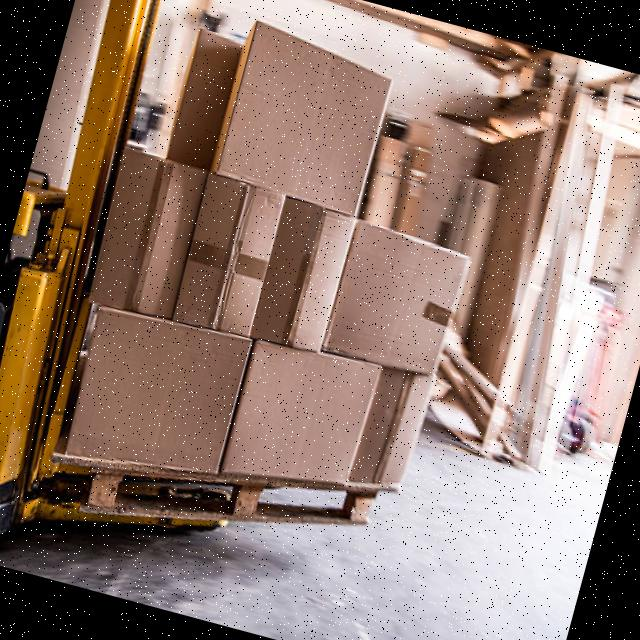Wooden-Pallets: (79, 459, 380, 532)
